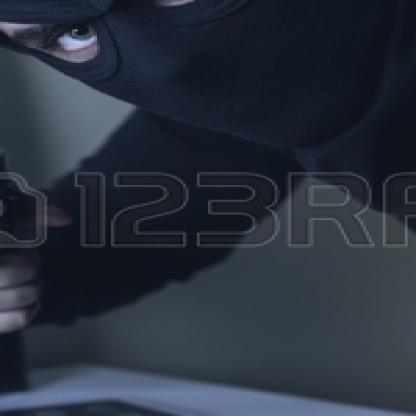gun: (0, 111, 53, 290)
